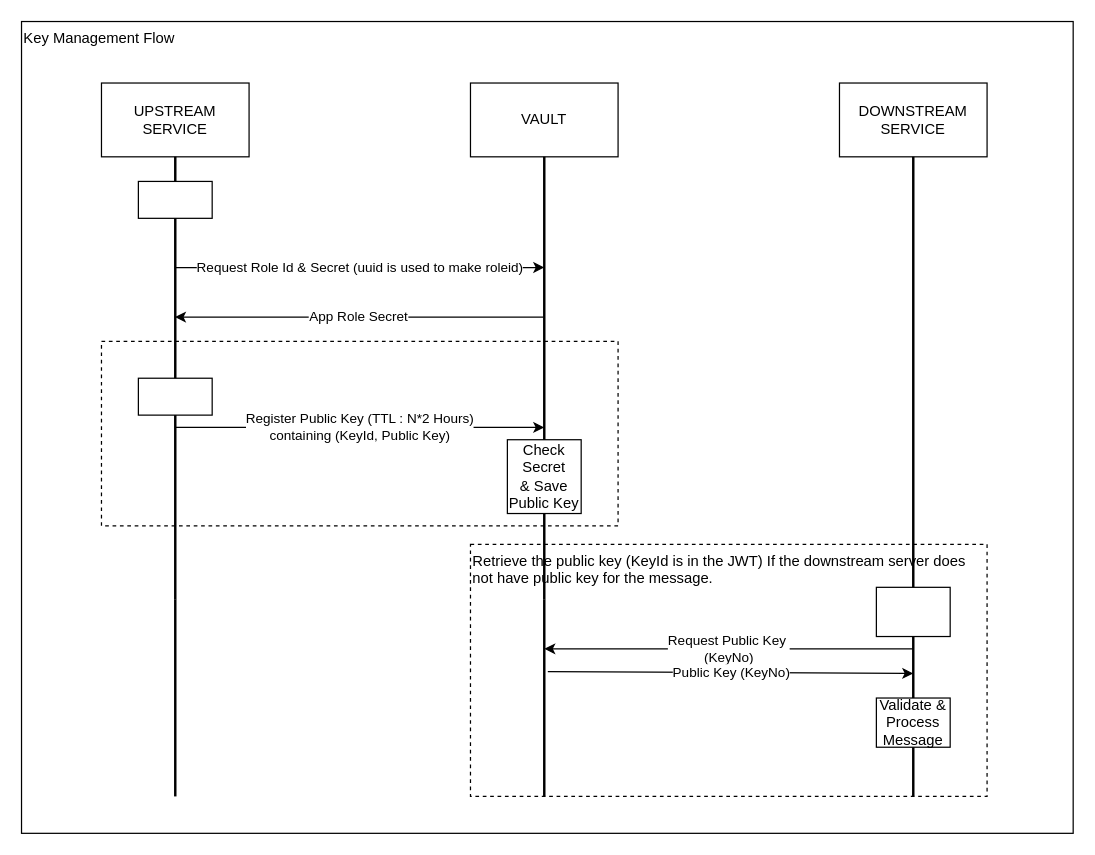
Image size: 1095x855. Some labels were removed from this diagram. The shapes that lost their labels are listed below. From the top down, each one's box as (x1, y1, x2, y2) in pixels, then its label:
(137, 180, 212, 218): server begin
(137, 377, 212, 415): Make PrivateKey
(100, 340, 618, 526): Renew Private Key Every N Hours... (The wardens constantly monitors it.)
(875, 586, 950, 637): Message Received (& JWT)
